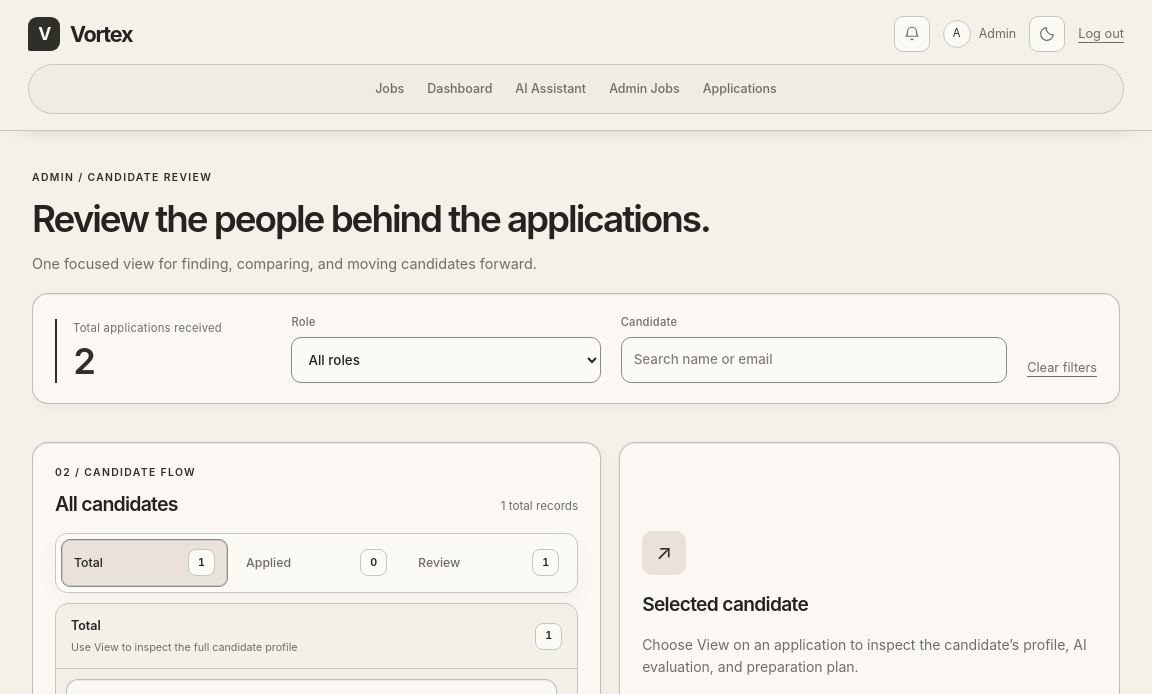
Dashboard layout › renders the candidate review dashboard with a uploaded application resume
Check: the heading "Review the people behind the applications." is shown, box x1=32 y1=198 x2=710 y2=240
Check: the text "2" is shown, box x1=73 y1=339 x2=94 y2=383
Step 1. Click the tab "Applied 0" → (316, 563), box x1=233 y1=539 x2=400 y2=587
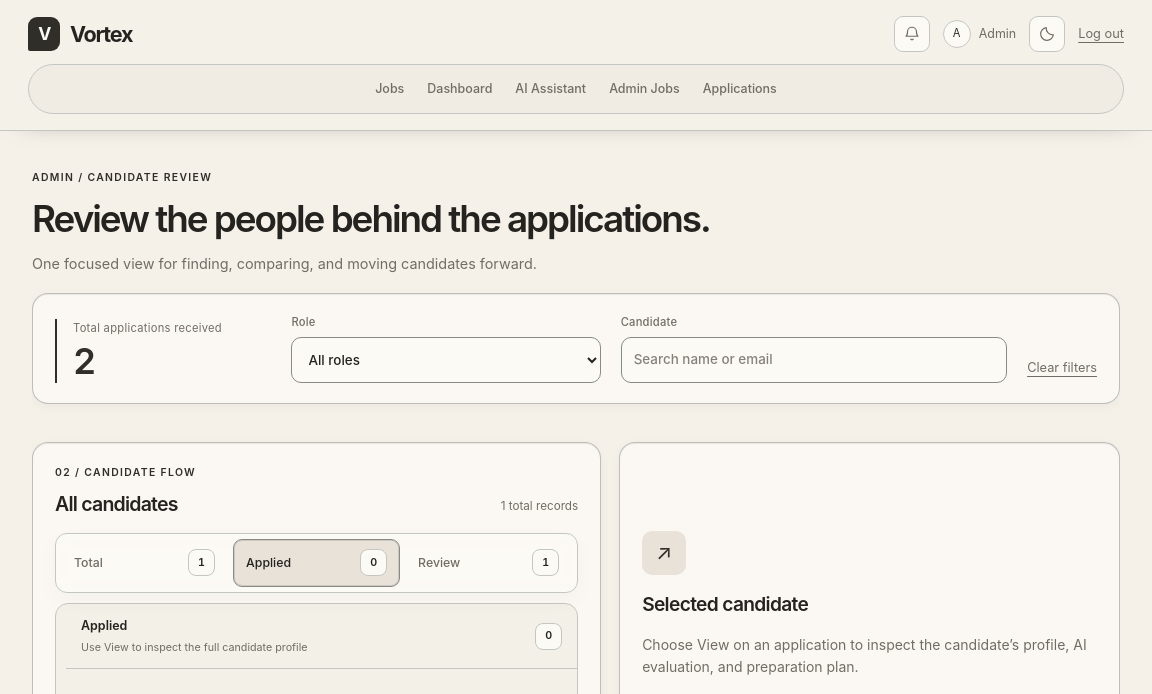
Step 2. Click the tab "Review 1" → (489, 563), box x1=405 y1=539 x2=572 y2=587
(page scrolled)
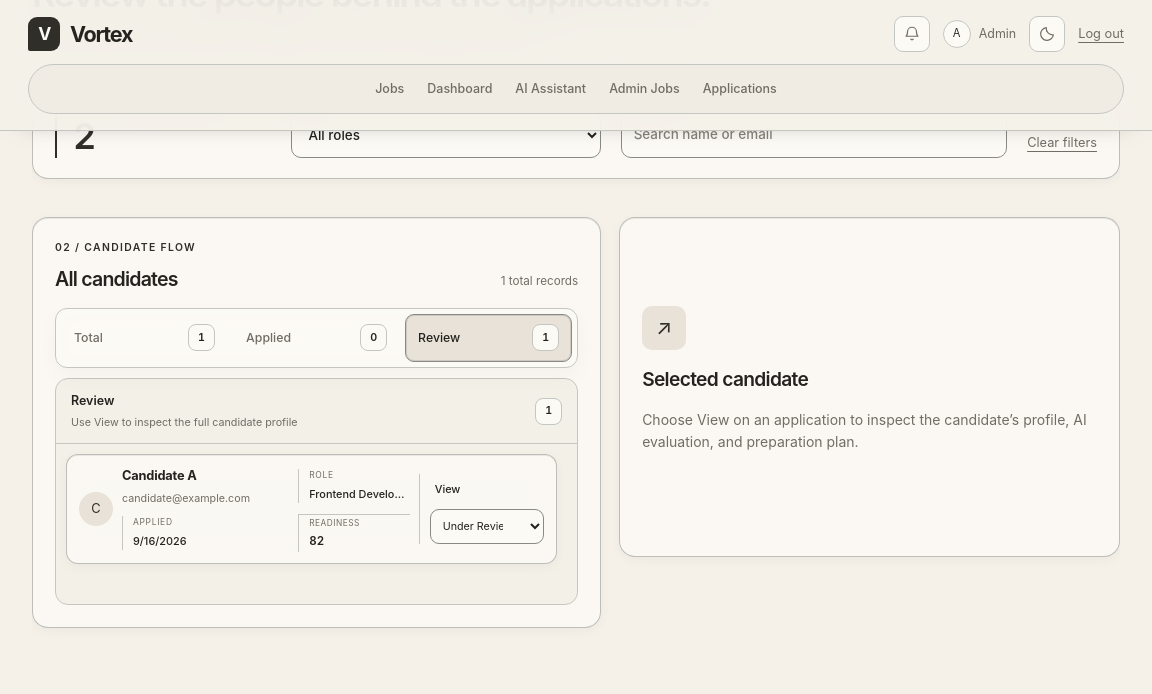
Step 3. Click the button "View" → (448, 489), box x1=430 y1=474 x2=465 y2=504
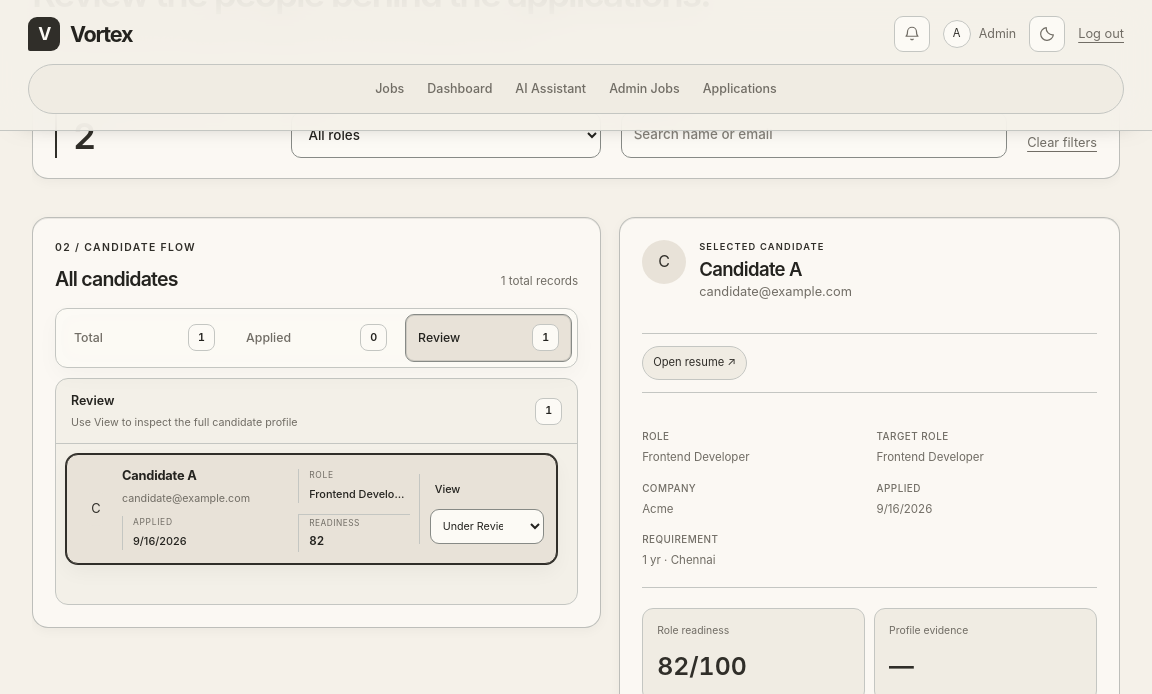
Check: the heading "Candidate A" is shown, box x1=699 y1=258 x2=802 y2=280
Check: the text "Profile evidence" is shown, box x1=889 y1=624 x2=968 y2=637
Check: the button "Open resume ↗" is shown, box x1=642 y1=346 x2=747 y2=380
